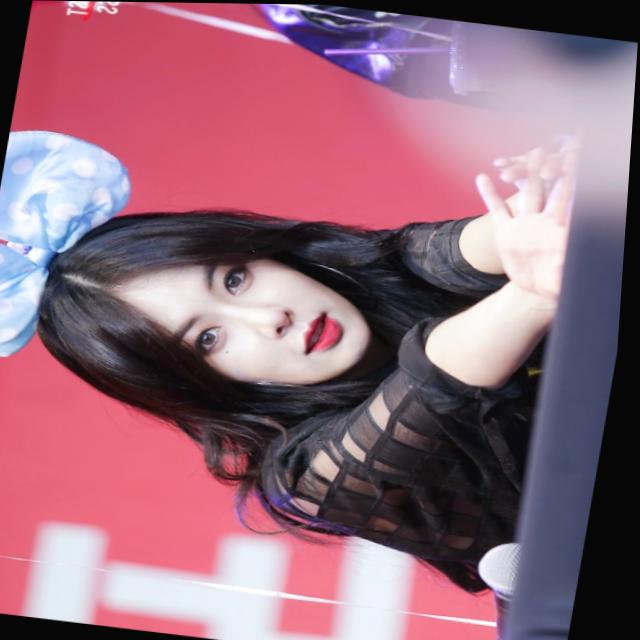face: (40, 208, 413, 418)
